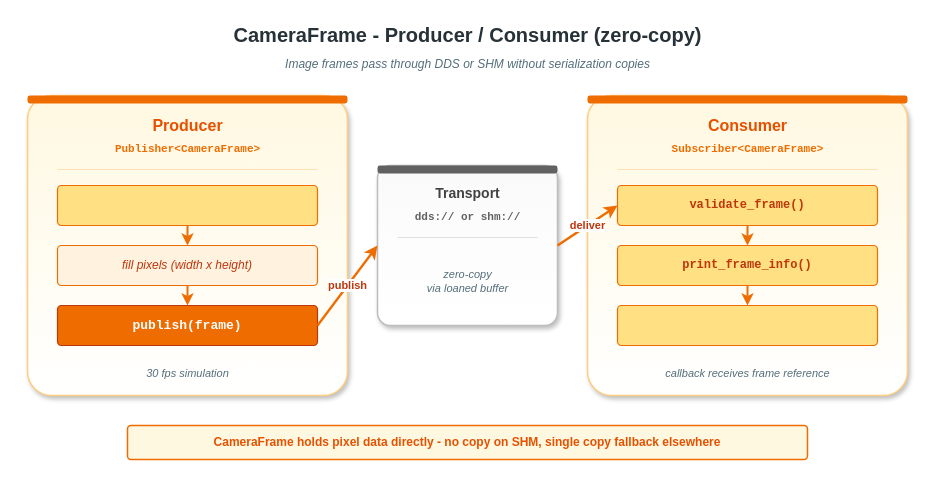
This 934x477 diagram has some shape labels left out. Here are the shapes that lost their labels. From the top down, the centre of each, then its label:
point (187, 205): create_test_frame()
point (747, 325): compute_checksum()
